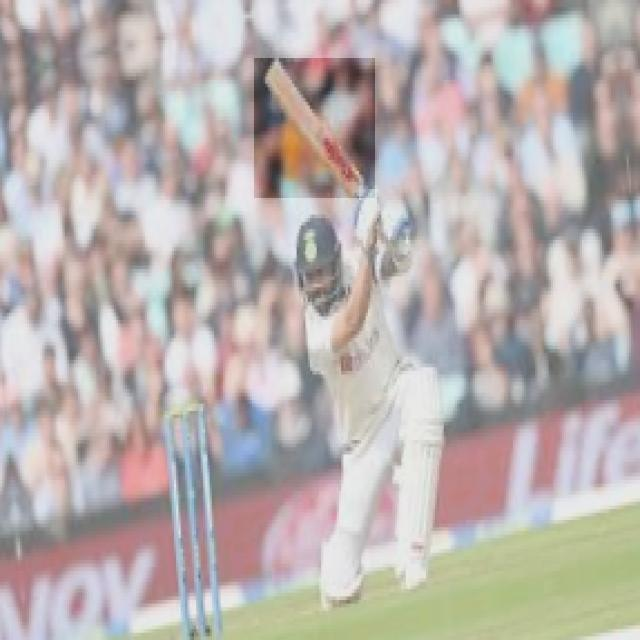bat: (254, 58, 377, 200)
toe: (254, 56, 284, 87)
